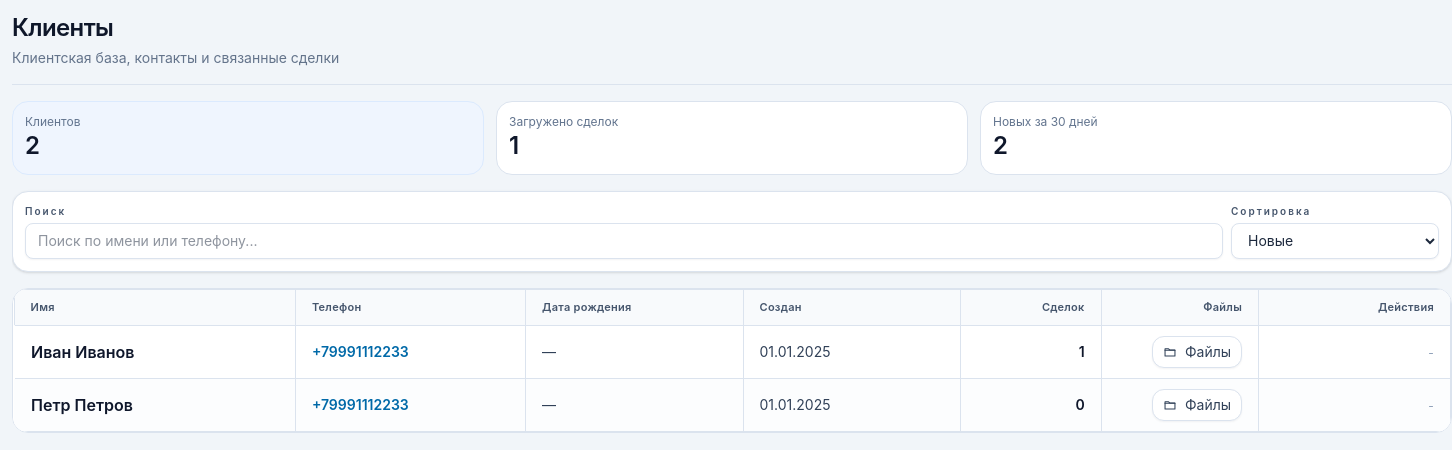
Test: ClientsView › filters clients by search
Type "Петр" into the field with placeholder "Поиск по имени или телефону..." at (624, 240), box [25, 222, 1223, 258]
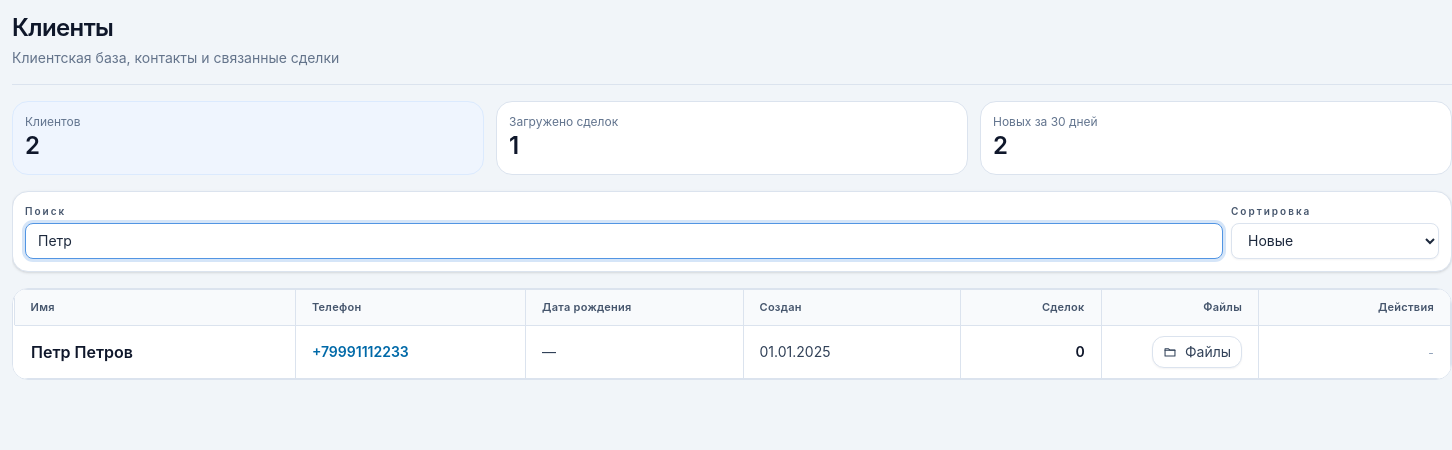
Check: the text "Петр Петров" is shown, box [31, 340, 133, 364]
Check: the text "Иван Иванов" is gone
